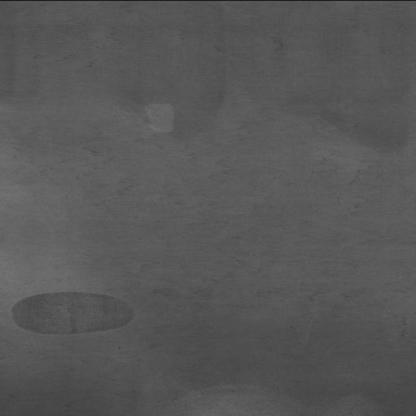oil_spot: (10, 290, 140, 336)
silk_spot: (86, 127, 392, 285)
